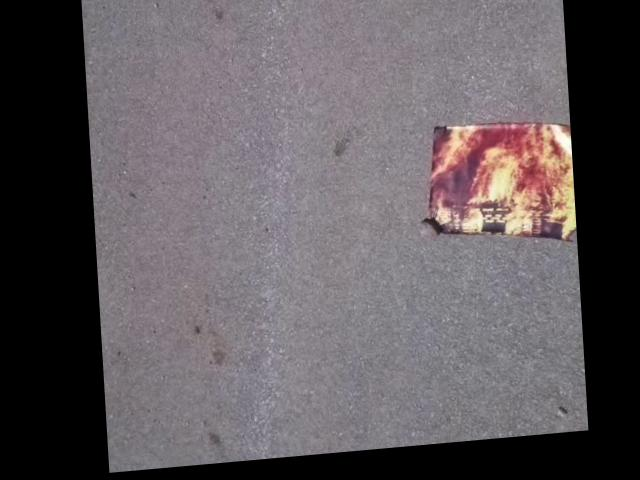fire-poster: (409, 122, 573, 265)
